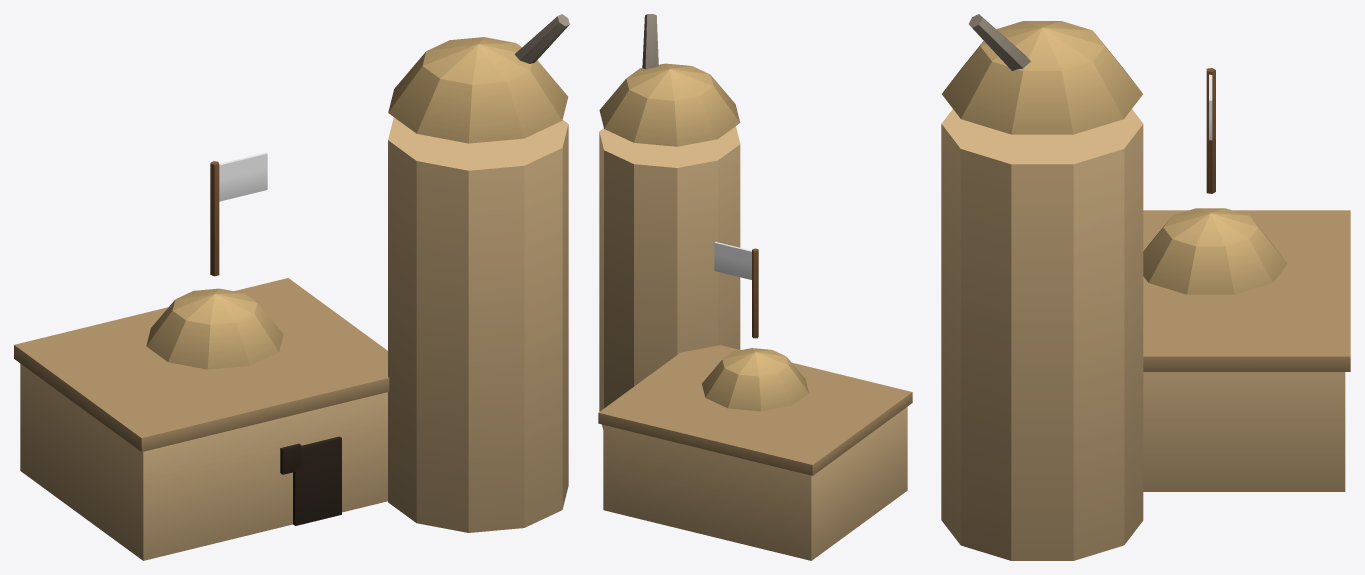
Rendered from RESEARCH_MA.glb.
3 renders of one model, left to right at view 1: azimuth 30°, elevation 25°; view 2: azimuth 150°, elevation 25°; view 3: azimuth 270°, elevation 25°, orthographic. The views are drawn at different scales.
Parts seen in each view (by area): view 1: Body, Flag; view 2: Body, Flag; view 3: Body.
Boxes of the visible parts, left/top/right/bottom form: Body: left=14, top=14, right=569, bottom=560; Flag: left=219, top=152, right=267, bottom=201; Body: left=598, top=14, right=912, bottom=560; Flag: left=714, top=242, right=751, bottom=279; Body: left=941, top=14, right=1350, bottom=560.
Bounding box in the file's own units: 3 × 3.5 × 2.43.
1 material, 1 textured.
